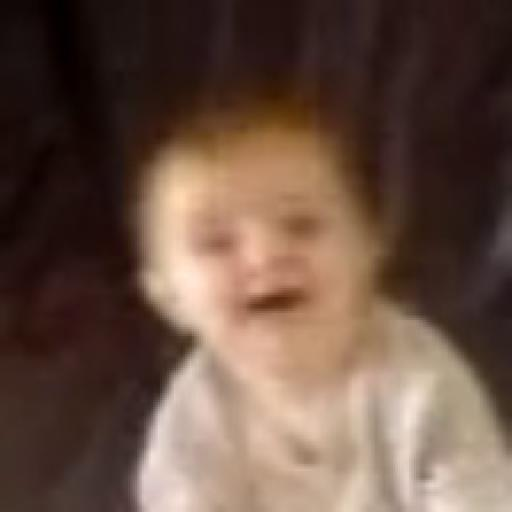Autism: (135, 141, 434, 402)
